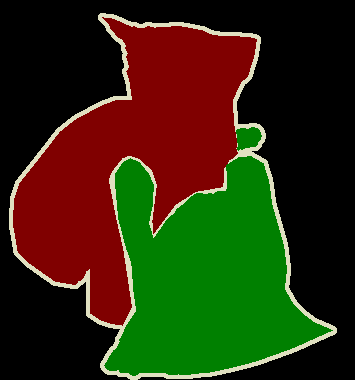cat: (15, 15, 259, 327), (105, 159, 334, 377)
